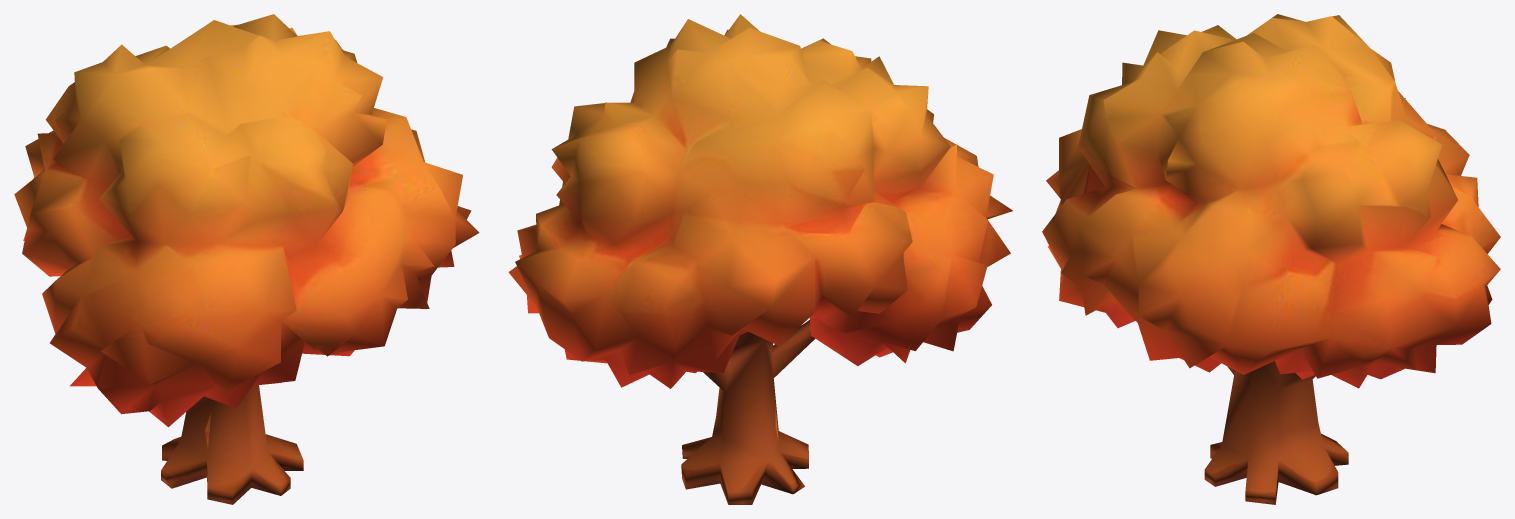
Rendered from tree_autumn.glb.
The picture shows the model from 3 angles, left to right: view 1: azimuth 30°, elevation 25°; view 2: azimuth 150°, elevation 25°; view 3: azimuth 270°, elevation 25°; orthographic projection. The views are drawn at different scales.
Visible parts, largest first — view 1: tripo_node_ca10d008-f32e-409a-835b-29f471618205; view 2: tripo_node_ca10d008-f32e-409a-835b-29f471618205; view 3: tripo_node_ca10d008-f32e-409a-835b-29f471618205.
Part boxes in pixels (bbox=[...]): tripo_node_ca10d008-f32e-409a-835b-29f471618205: bbox=[14, 14, 479, 504]; tripo_node_ca10d008-f32e-409a-835b-29f471618205: bbox=[508, 14, 1012, 504]; tripo_node_ca10d008-f32e-409a-835b-29f471618205: bbox=[1042, 14, 1500, 504].
Size of the model in its own units: 0.9512 by 0.998 by 0.9473.
1 material, 1 textured.
